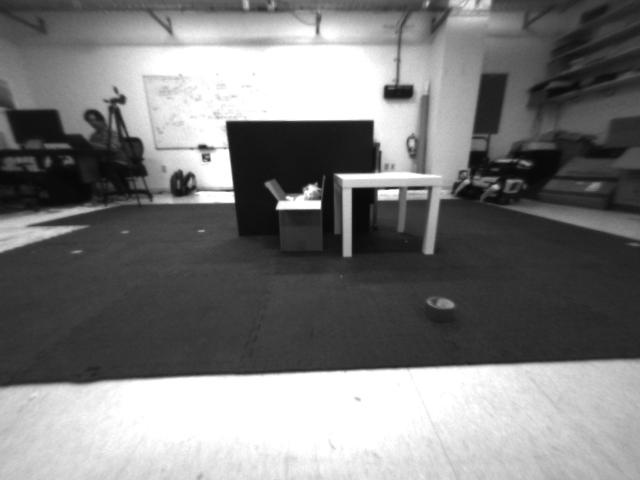dogtoy: (408, 291, 471, 329)
